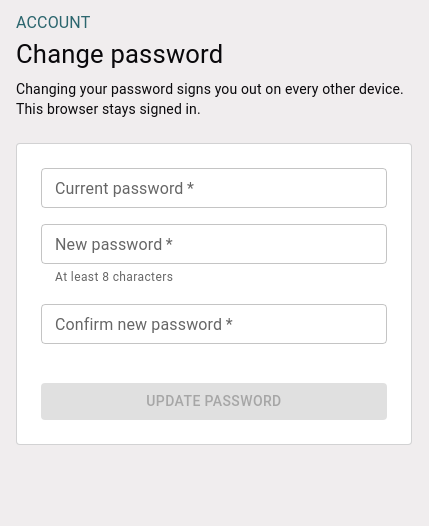
Test: ChangePasswordPage › blocks mismatched confirmation
The width and height of the screenshot is (429, 526).
Type "old-password" into the password field labelled "Current password *" at (214, 188), box [41,168,387,208]
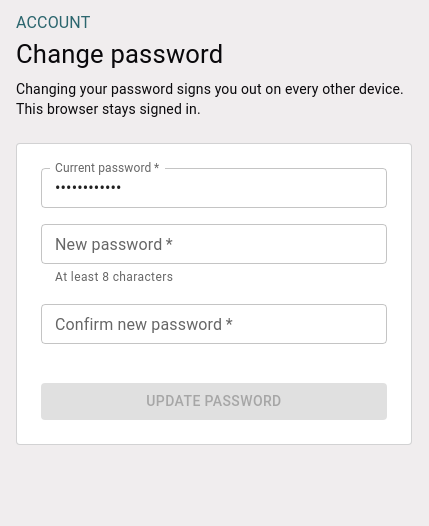
Type "brand-new-pass" into the password field labelled "New password *" at (214, 244), box [41,224,387,264]
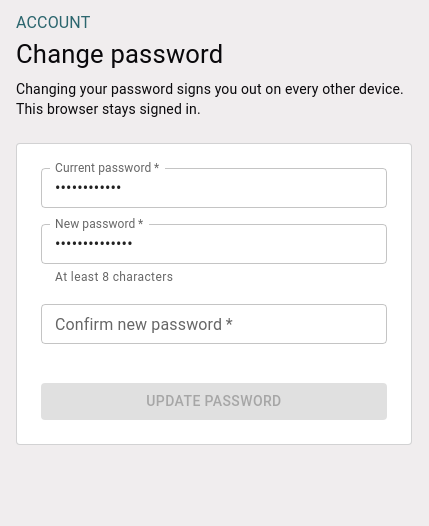
Type "brand-new-typo" into the password field labelled "Confirm new password *" at (214, 324), box [41,304,387,344]
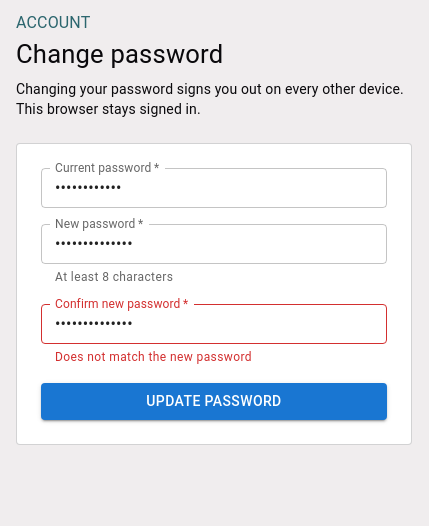
Click the button "Update password" at (214, 402), box [41,383,387,420]
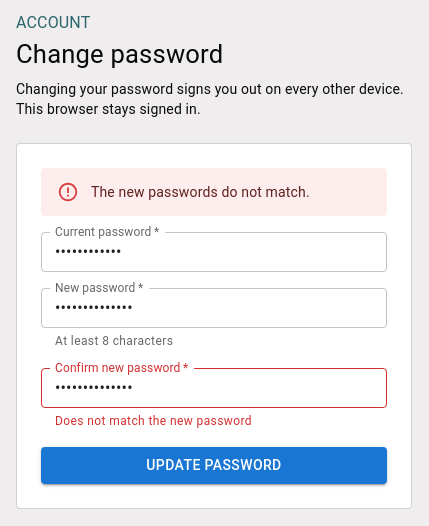
Expected: the text "The new passwords do not match." is shown, [91,184,310,200]
